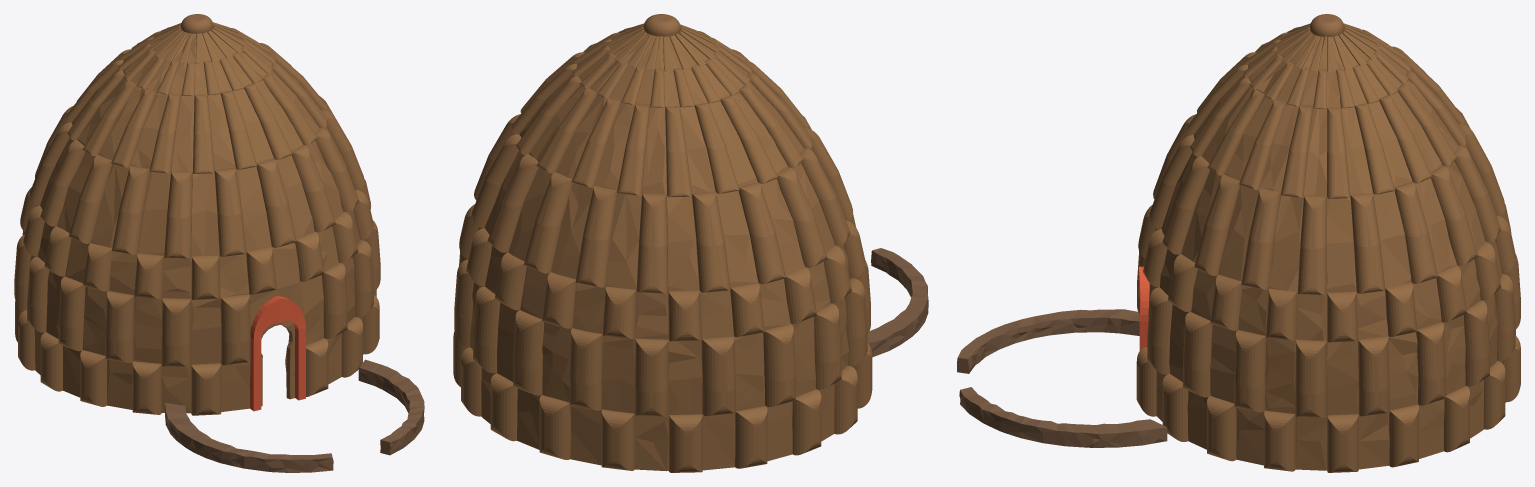
File: Cameroon Model_colored.fbx
The picture shows the model from 3 angles, left to right: view 1: azimuth 30°, elevation 25°; view 2: azimuth 150°, elevation 25°; view 3: azimuth 270°, elevation 25°; orthographic projection. The views are drawn at different scales.
Parts seen in each view (by area): view 1: Cameroon; view 2: Cameroon; view 3: Cameroon.
Boxes of the visible parts, <box> form: Cameroon: <box>14,14,424,472</box>; Cameroon: <box>453,14,928,472</box>; Cameroon: <box>957,14,1520,472</box>.
Bounding box in the file's own units: 1170 × 1133 × 1567.
1 material, 1 textured.
